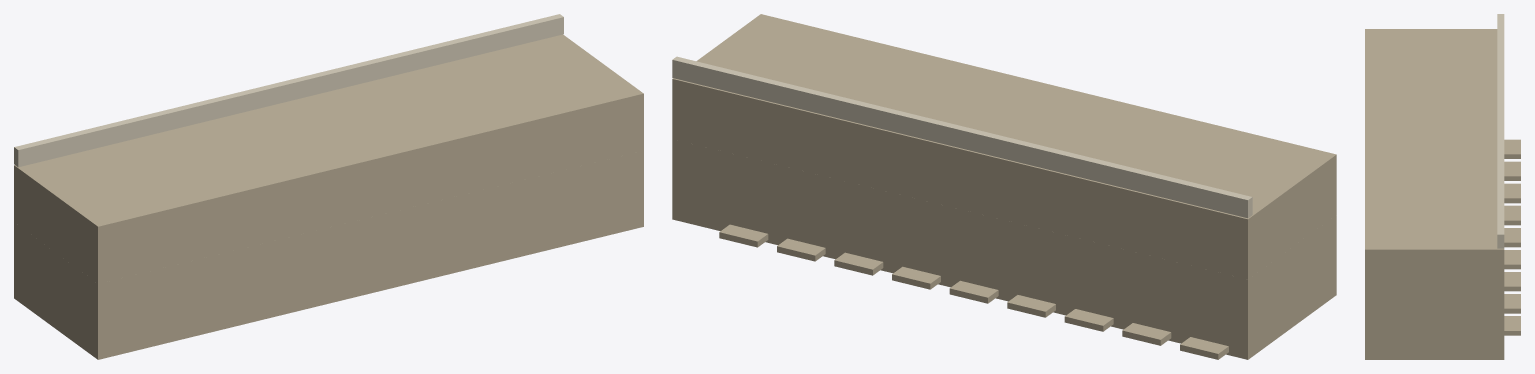
The model's file is d-it-03-arcaded-embankment.glb.
3 views of the same model, side by side, from view 1: azimuth 30°, elevation 25°; view 2: azimuth 150°, elevation 25°; view 3: azimuth 270°, elevation 25° (orthographic). The views are drawn at different scales.
Visible parts, largest first — view 1: part1, part0, part2; view 2: part1, part0, part2, part9, part4, part11, part5, part7, part3, part6, part8, part10; view 3: part1, part0, part2, part5, part6, part3, part4, part7, part8, part9, part10, part11.
Boxes of the visible parts, left/top/right/bottom form: part1: left=14, top=34, right=643, bottom=283; part0: left=14, top=150, right=643, bottom=359; part2: left=14, top=14, right=563, bottom=167; part1: left=672, top=14, right=1336, bottom=279; part0: left=672, top=139, right=1336, bottom=359; part2: left=672, top=56, right=1252, bottom=218; part9: left=834, top=252, right=883, bottom=275; part4: left=1122, top=323, right=1171, bottom=345; part11: left=719, top=224, right=768, bottom=247; part5: left=1064, top=309, right=1113, bottom=331; part7: left=949, top=280, right=998, bottom=303; part3: left=1180, top=337, right=1228, bottom=359; part6: left=1007, top=295, right=1055, bottom=317; part8: left=892, top=266, right=940, bottom=289; part10: left=777, top=238, right=825, bottom=261; part1: left=1365, top=29, right=1504, bottom=296; part0: left=1365, top=297, right=1504, bottom=359; part2: left=1497, top=14, right=1504, bottom=248; part5: left=1504, top=183, right=1520, bottom=203; part6: left=1504, top=205, right=1520, bottom=225; part3: left=1504, top=139, right=1520, bottom=158; part4: left=1504, top=161, right=1520, bottom=180; part7: left=1504, top=228, right=1520, bottom=247; part8: left=1504, top=250, right=1520, bottom=269; part9: left=1504, top=272, right=1520, bottom=291; part10: left=1504, top=294, right=1520, bottom=313; part11: left=1504, top=316, right=1520, bottom=335.
Bounding box in the file's own units: 30000 × 7950 × 8950.
